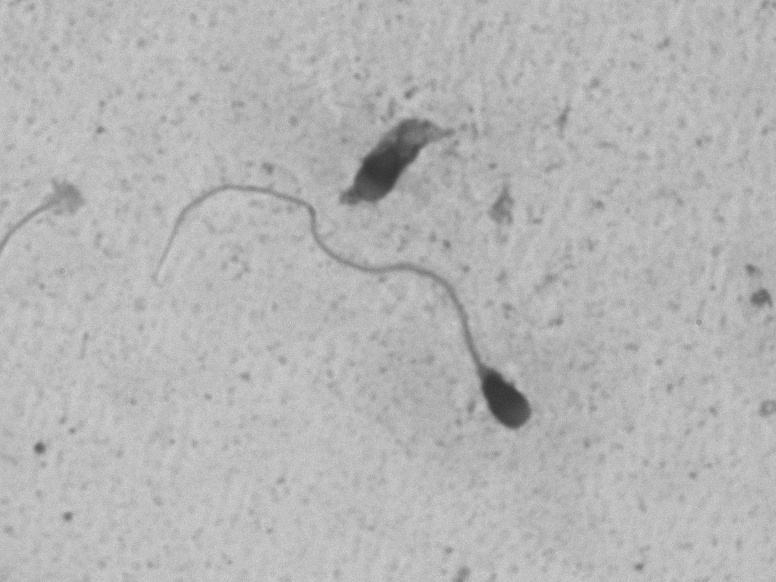Abnormal: (120, 171, 568, 455)
